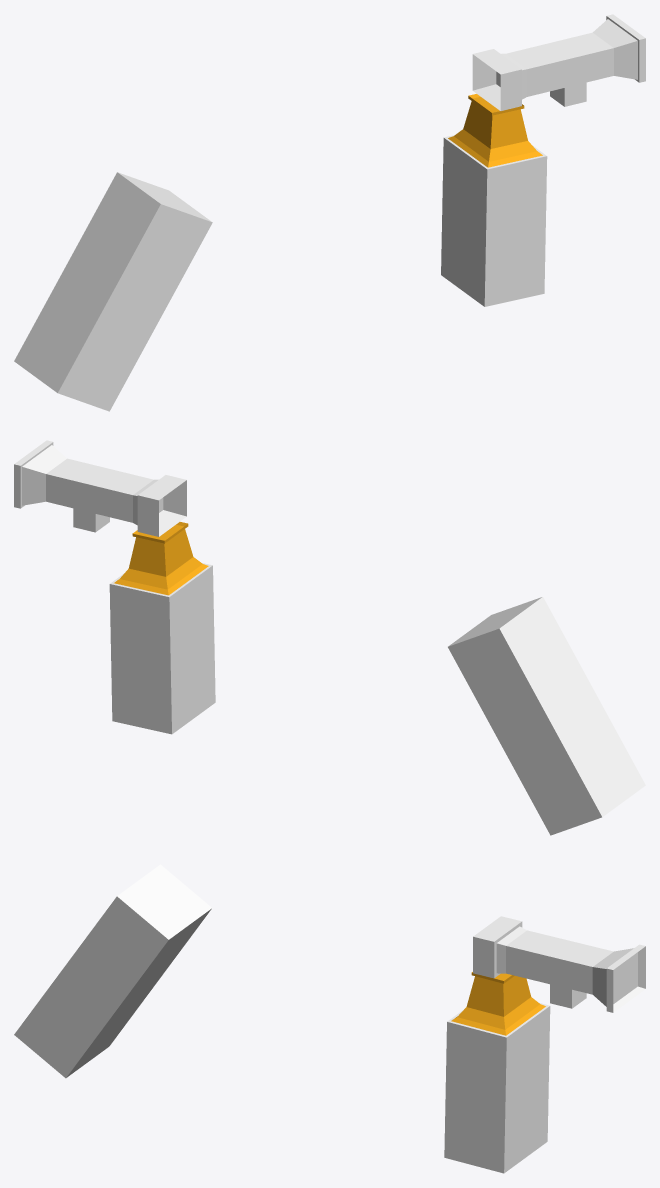
File: Gun Test101.fbx
3 views of the same model, one above another, from view 1: azimuth 30°, elevation 25°; view 2: azimuth 150°, elevation 25°; view 3: azimuth 330°, elevation 25° (orthographic).
Parts seen in each view (by area): view 1: Cube, Cube.001, Cube.003, Cube.005, Cube.004; view 2: Cube, Cube.001, Cube.003, Cube.005, Cube.004; view 3: Cube, Cube.001, Cube.003, Cube.005, Cube.004.
Part boxes in pixels (left/top/right/bottom): Cube: left=14, top=172, right=212, bottom=411; Cube.001: left=441, top=135, right=547, bottom=306; Cube.003: left=472, top=14, right=645, bottom=110; Cube.005: left=448, top=94, right=542, bottom=167; Cube.004: left=550, top=82, right=586, bottom=106; Cube: left=448, top=597, right=645, bottom=835; Cube.001: left=109, top=563, right=215, bottom=734; Cube.003: left=14, top=440, right=186, bottom=536; Cube.005: left=114, top=522, right=208, bottom=595; Cube.004: left=73, top=508, right=109, bottom=532; Cube: left=14, top=864, right=211, bottom=1078; Cube.001: left=444, top=1003, right=550, bottom=1173; Cube.003: left=473, top=916, right=645, bottom=1012; Cube.005: left=451, top=972, right=545, bottom=1035; Cube.004: left=550, top=984, right=586, bottom=1008.
Size of the model in its own units: 161 by 61.31 by 21.54.
